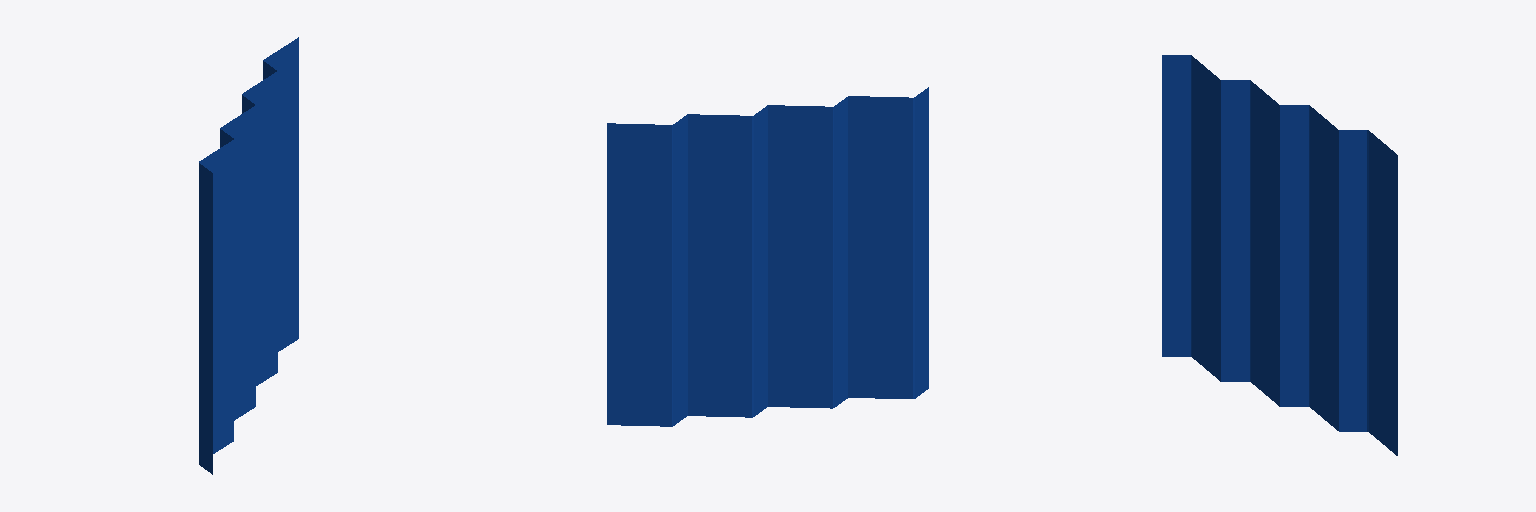
The model's file is kit_40x40m_terrain_003.011.obj.
The picture shows the model from 3 angles: view 1: azimuth 30°, elevation 25°; view 2: azimuth 150°, elevation 25°; view 3: azimuth 270°, elevation 25°; orthographic projection.
Visible parts, largest first — view 1: kit_40x40m_terrain_003.011; view 2: kit_40x40m_terrain_003.011; view 3: kit_40x40m_terrain_003.011.
Boxes of the visible parts, x1,y1,x2,y2 form: kit_40x40m_terrain_003.011: [199, 37, 298, 474]; kit_40x40m_terrain_003.011: [607, 87, 928, 426]; kit_40x40m_terrain_003.011: [1162, 55, 1397, 455].
Bounding box in the file's own units: 28.28 × 40 × 28.28.